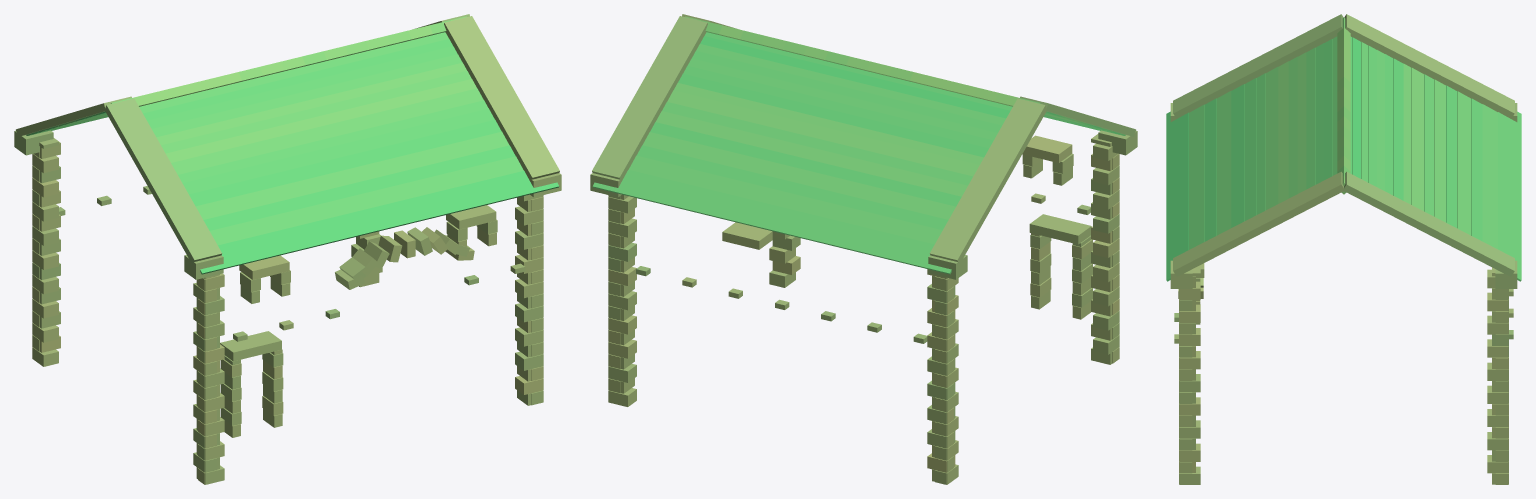
Rendered from SM_Bld_235_Stone.glb.
3 views of the same model, side by side, from view 1: azimuth 30°, elevation 25°; view 2: azimuth 150°, elevation 25°; view 3: azimuth 270°, elevation 25° (orthographic). The views are drawn at different scales.
Visible parts, largest first — view 1: SM_Bld_235_Stone; view 2: SM_Bld_235_Stone; view 3: SM_Bld_235_Stone.
Boxes of the visible parts, <box> form: SM_Bld_235_Stone: <box>14,14,561,484</box>; SM_Bld_235_Stone: <box>590,14,1137,484</box>; SM_Bld_235_Stone: <box>1166,14,1521,484</box>.
Size of the model in its own units: 9.48 by 7.95 by 8.34.
